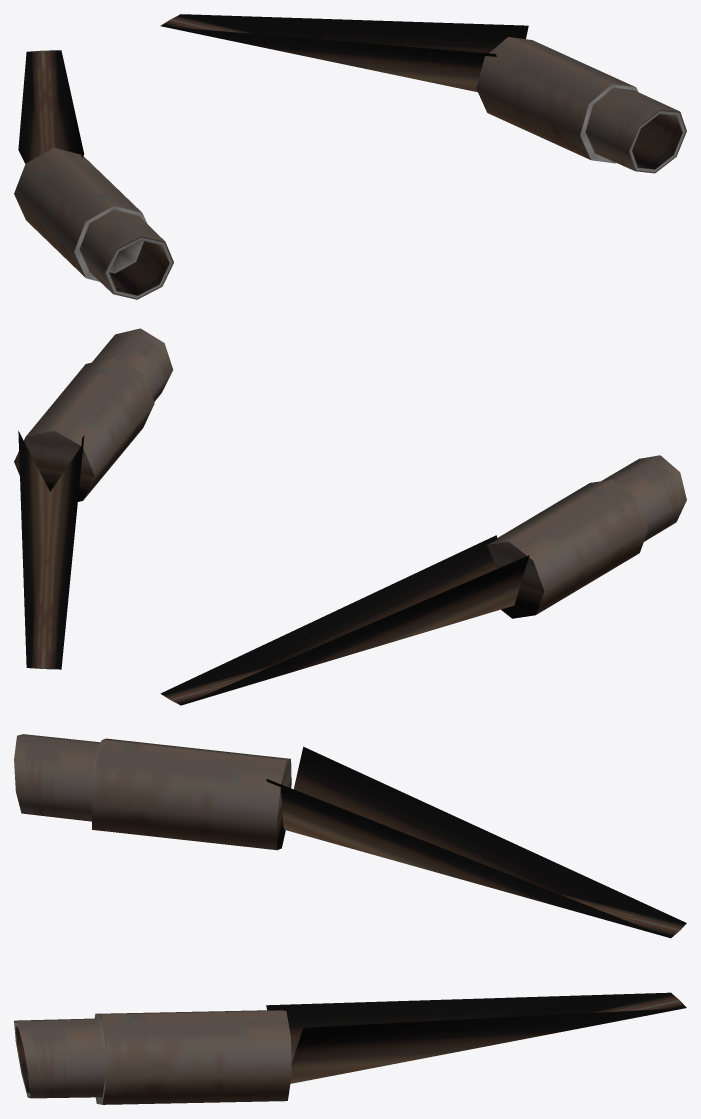
File: exh_a_j.glb
3 renders of one model, top to bottom at view 1: azimuth 30°, elevation 25°; view 2: azimuth 150°, elevation 25°; view 3: azimuth 270°, elevation 25°, orthographic. The views are drawn at different scales.
Visible parts, largest first — view 1: exh_a_j; view 2: exh_a_j; view 3: exh_a_j.
Part boxes in pixels (x1,y1,x2,y2): exh_a_j: [14, 14, 686, 299]; exh_a_j: [14, 328, 686, 705]; exh_a_j: [14, 734, 686, 1104].
Bounding box in the file's own units: 1.45 × 0.2031 × 1.28.
1 material, 1 textured.
